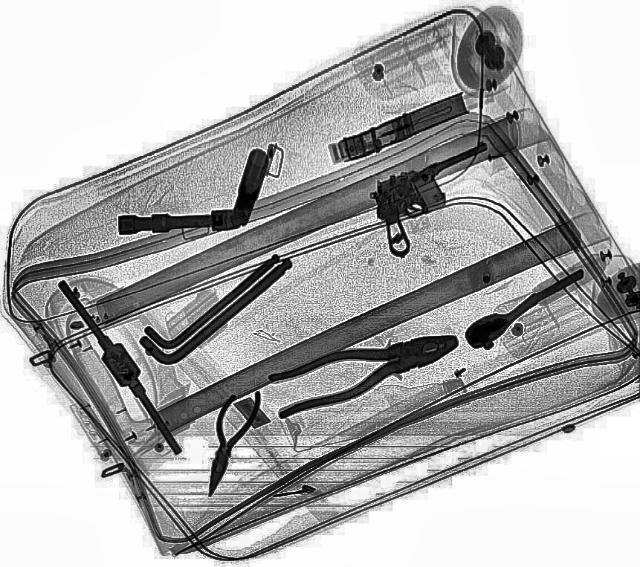Gun: (352, 138, 526, 262)
Pliers: (260, 316, 468, 420), (194, 384, 262, 498)
